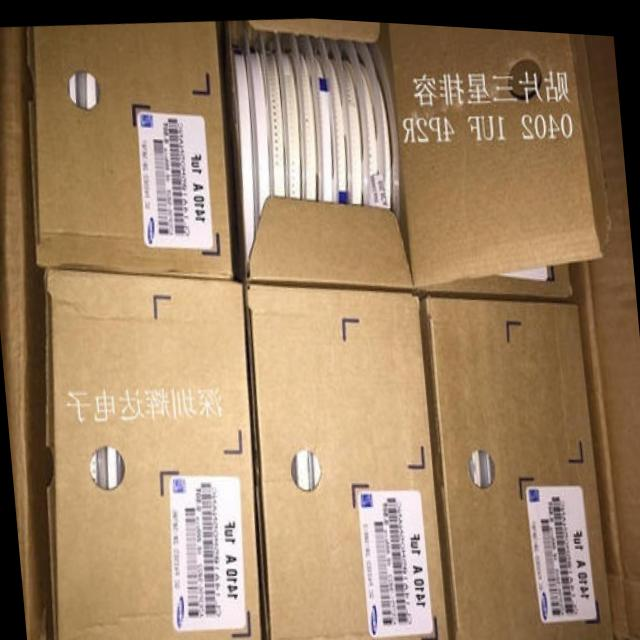box: (218, 15, 612, 281), (46, 266, 263, 640), (242, 280, 451, 640), (424, 288, 614, 640), (28, 20, 235, 275), (413, 257, 573, 290)
